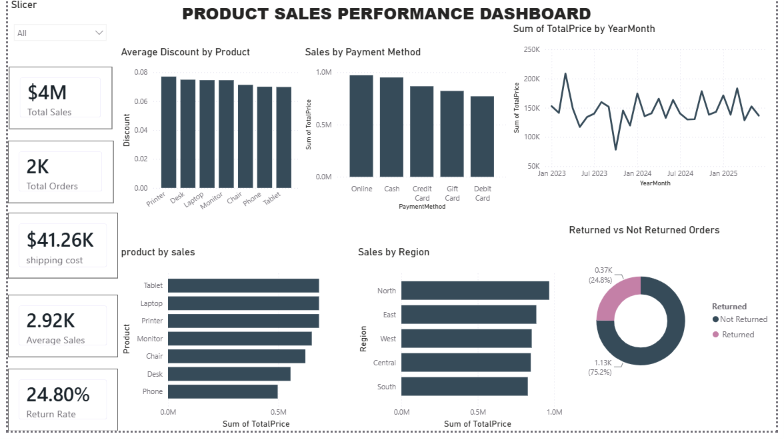

What the dashboard file says about the page in this screenshot:
{"tool":"powerbi","page":{"name":"Page 1","canvas":[1280,720],"ordinal":0},"visuals":[{"type":"cardVisual","fields":{"Data":["Sheet1.sales"]},"box":[2.2,113.2,172,103.9],"z":0},{"type":"cardVisual","fields":{"Data":["Sheet1.Total Orders"]},"box":[0,237.3,175.7,103.9],"z":1000},{"type":"cardVisual","title":"Shipping Cost","fields":{"Data":["Sheet1.Totalshippingcost"]},"box":[0,357,183.3,109.6],"z":2000},{"type":"cardVisual","fields":{"Data":["Sheet1.Average Sales"]},"box":[0,494.1,183.3,103.9],"z":3000},{"type":"cardVisual","fields":{"Data":["Sheet1.Return Rate"]},"box":[0,616.1,183.3,103.9],"z":4000},{"type":"clusteredBarChart","title":"product by sales","fields":{"Category":["Sheet1.Product"],"Y":["Sum(Sheet1.TotalPrice)"]},"box":[182.9,411.4,396.2,309.1],"z":5000},{"type":"clusteredBarChart","title":"Sales by Region","fields":{"Category":["Sheet1.Region"],"Y":["Sum(Sheet1.TotalPrice)"]},"box":[579,411.4,350.5,309.1],"z":6000},{"type":"donutChart","title":"Returned vs Not Returned Orders","fields":{"Category":["Sheet1.Returned"],"Y":["CountNonNull(Sheet1.OrderID)"]},"box":[929.5,374.4,350.5,293.9],"z":7000},{"type":"clusteredColumnChart","title":"Average Discount by Product","fields":{"Category":["Sheet1.Product"],"Y":["Avg(Sheet1.Discount)"]},"box":[182.9,78.4,306.9,296.1],"z":8000},{"type":"columnChart","title":"Sales by Payment Method","fields":{"Category":["Sheet1.PaymentMethod"],"Y":["Sum(Sheet1.TotalPrice)"]},"box":[489.8,78.4,346.1,278.6],"z":9000},{"type":"slicer","title":"Slicer","fields":{"Values":["Sheet1.Product"]},"box":[0,0,174.1,113.2],"z":10000},{"type":"textbox","box":[285.2,0,872.9,78.4],"z":11000},{"type":"lineChart","fields":{"Y":["Sum(Sheet1.TotalPrice)"],"Category":["Sheet1.YearMonth"]},"box":[836.7,40,443.3,278.3],"z":12000}]}

Visuals, with their boxes in screenshot pixels (x1, y1, x2, y2), scaled from the page's 1280x720 canvas onto the 784x439 screenshot:
cardVisual - Sheet1.sales: [1,69,107,132]
cardVisual - Sheet1.Total Orders: [0,145,108,208]
"Shipping Cost" cardVisual: [0,218,112,284]
cardVisual - Sheet1.Average Sales: [0,301,112,365]
cardVisual - Sheet1.Return Rate: [0,376,112,438]
"product by sales" clusteredBarChart: [112,251,355,438]
"Sales by Region" clusteredBarChart: [355,251,569,438]
"Returned vs Not Returned Orders" donutChart: [569,228,783,407]
"Average Discount by Product" clusteredColumnChart: [112,48,300,228]
"Sales by Payment Method" columnChart: [300,48,512,218]
"Slicer" slicer: [0,0,107,69]
textbox: [175,0,709,48]
lineChart - Sum(Sheet1.TotalPrice) x Sheet1.YearMonth: [512,24,783,194]
